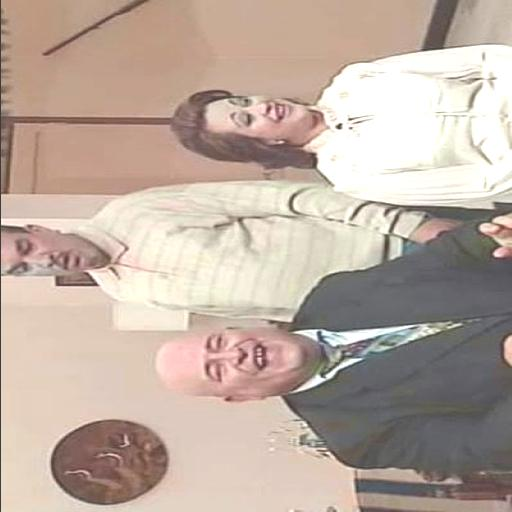AZZA: (205, 96, 308, 143)
sboui: (156, 328, 310, 401)
slimane: (0, 225, 108, 275)
